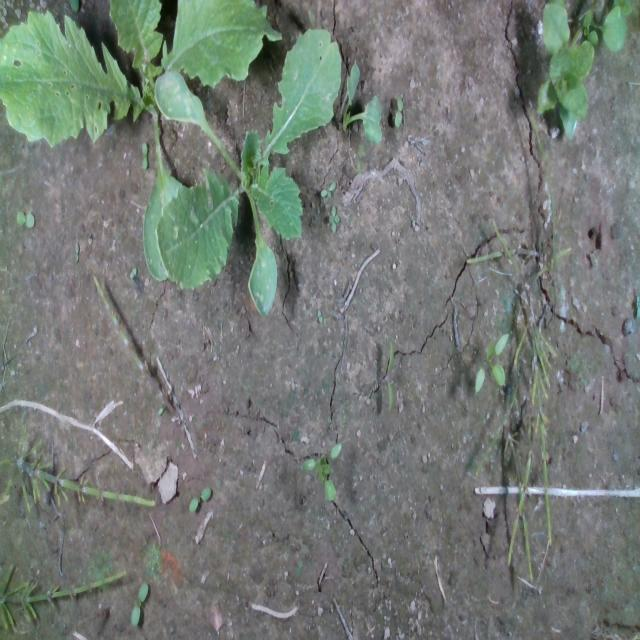weed: (474, 332, 509, 392), (130, 580, 148, 626), (385, 338, 395, 410), (188, 485, 210, 513), (328, 204, 340, 234), (16, 210, 34, 228), (394, 92, 402, 128), (320, 180, 336, 198), (140, 140, 148, 170), (74, 242, 80, 265), (129, 265, 137, 280)
